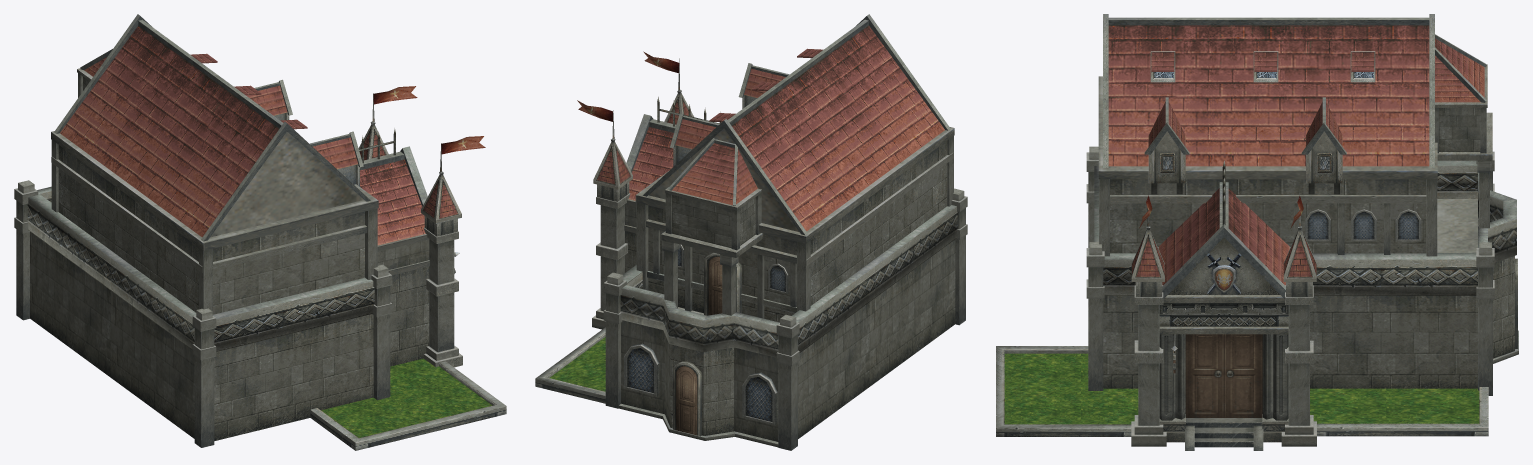
File: SC_guowangchengbao_06.FBX
3 views of the same model, side by side, from view 1: azimuth 30°, elevation 25°; view 2: azimuth 150°, elevation 25°; view 3: azimuth 270°, elevation 25° (orthographic). The views are drawn at different scales.
Visible parts, largest first — view 1: SC_guowangchengbao_06; view 2: SC_guowangchengbao_06; view 3: SC_guowangchengbao_06.
Part boxes in pixels (x1=…): SC_guowangchengbao_06: x1=14, y1=14, x2=506, y2=450; SC_guowangchengbao_06: x1=535, y1=14, x2=967, y2=450; SC_guowangchengbao_06: x1=996, y1=14, x2=1518, y2=450.
Size of the model in its own units: 1346 by 1228 by 1762.
